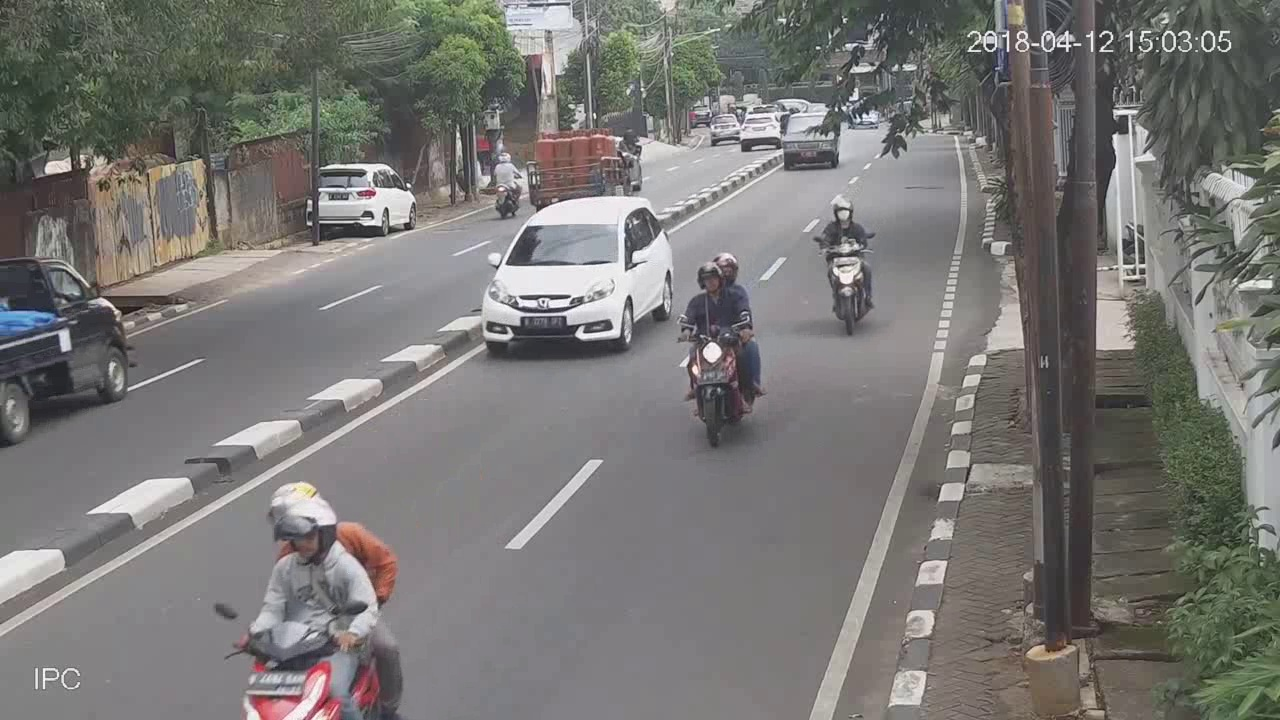car: (478, 196, 670, 355), (304, 154, 419, 239), (784, 108, 839, 172), (741, 112, 782, 153), (709, 113, 739, 146)
motorcycle: (215, 480, 410, 720), (677, 254, 769, 453), (812, 192, 882, 339), (485, 147, 523, 218)
truck: (1, 254, 130, 445)
